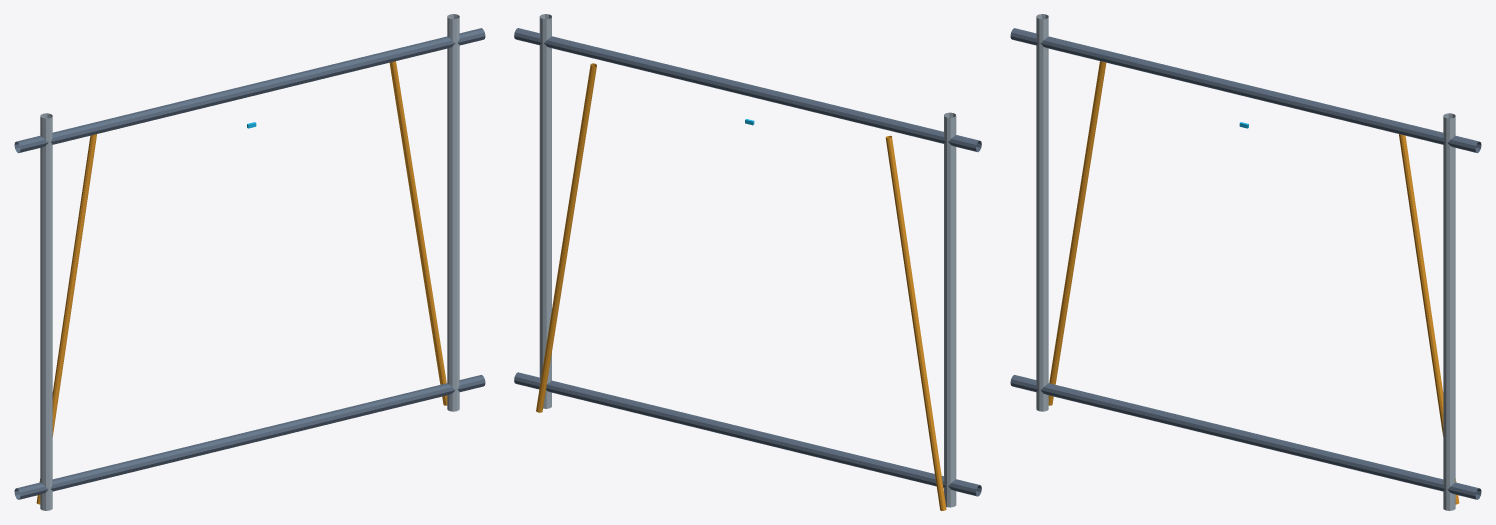
Rendered from 13_L87_GravityStationFixedSupportFrame.fbx.
The picture shows the model from 3 angles, left to right: view 1: azimuth 30°, elevation 25°; view 2: azimuth 150°, elevation 25°; view 3: azimuth 330°, elevation 25°; orthographic projection.
Visible parts, largest first — view 1: L87_GravityStationFixedSupportFrame; view 2: L87_GravityStationFixedSupportFrame; view 3: L87_GravityStationFixedSupportFrame.
Boxes of the visible parts, x1,y1,x2,y2 form: L87_GravityStationFixedSupportFrame: (14,14,485,510); L87_GravityStationFixedSupportFrame: (514,14,981,510); L87_GravityStationFixedSupportFrame: (1010,14,1481,510).
Size of the model in its own units: 1600 by 1291 by 69.
